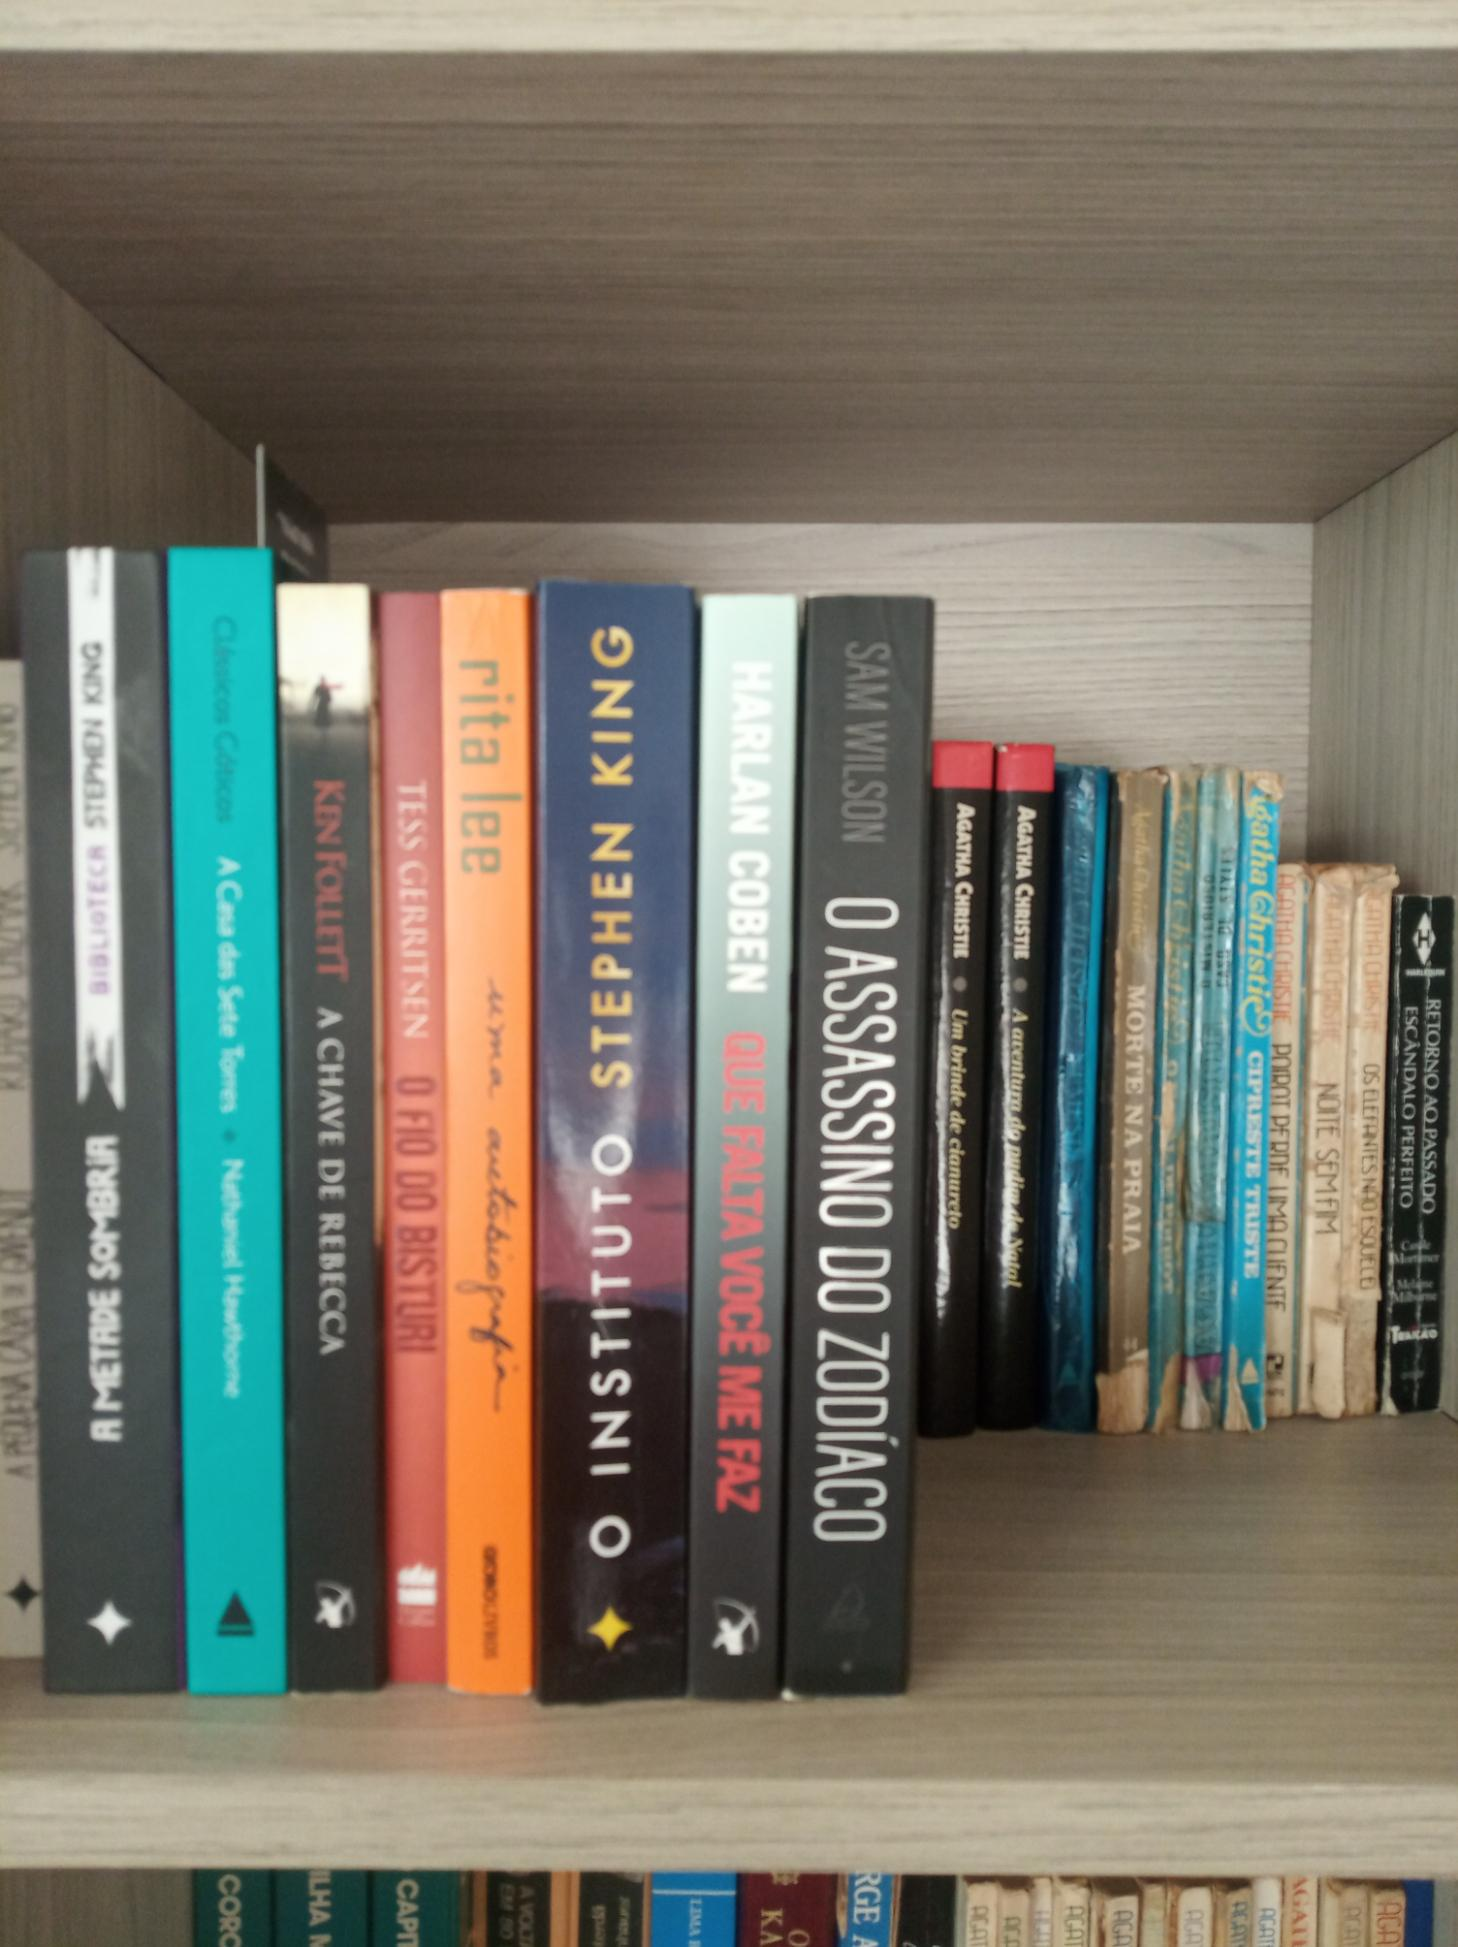book: (547, 616, 682, 1687), (41, 555, 153, 1690), (178, 555, 279, 1694), (796, 616, 902, 1688), (289, 617, 383, 1690), (453, 616, 525, 1690), (704, 617, 775, 1688), (387, 630, 436, 1679), (930, 738, 983, 1432), (2, 674, 35, 1671), (1005, 746, 1049, 1428), (1176, 783, 1211, 1441), (1239, 789, 1274, 1428), (1401, 892, 1441, 1412), (1123, 767, 1152, 1434), (1066, 758, 1093, 1426), (1309, 862, 1342, 1415), (1354, 878, 1384, 1417), (1162, 763, 1185, 1432), (1267, 861, 1293, 1417)
